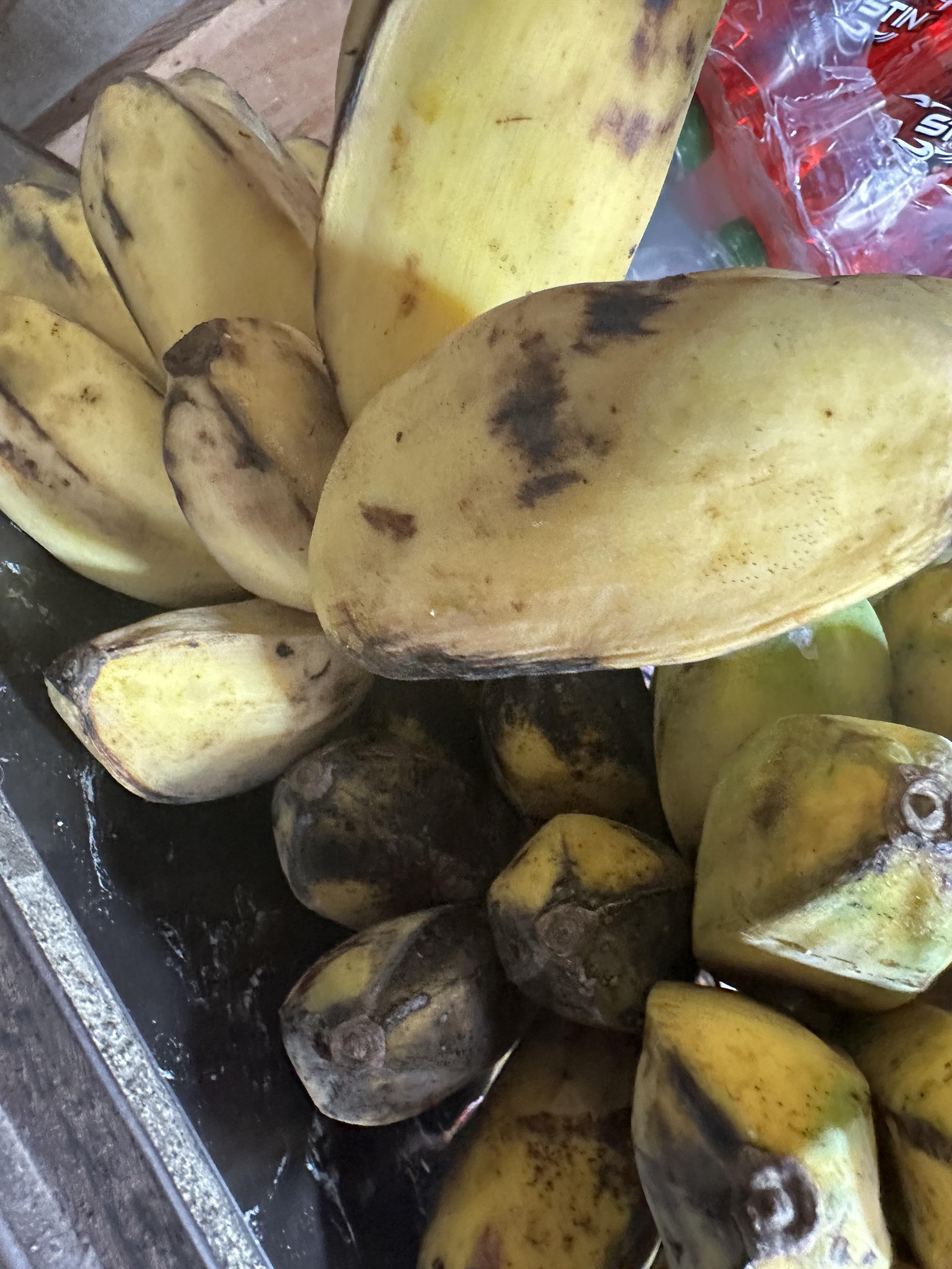overripe: (272, 670, 689, 1125)
ripe: (0, 0, 952, 803)
underripe: (418, 565, 952, 1269)
